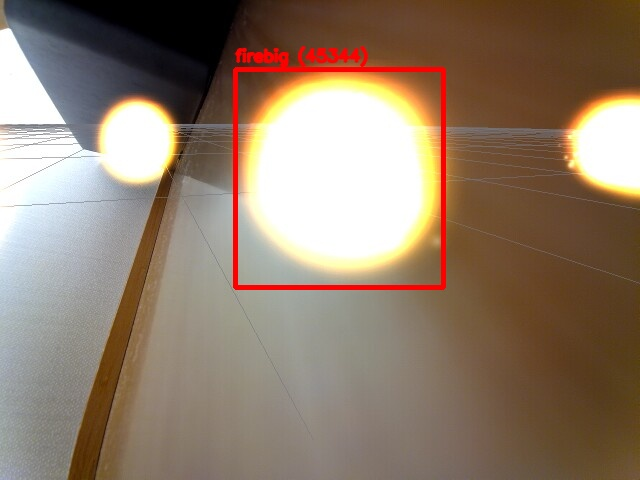firebig: (235, 69, 443, 287)
